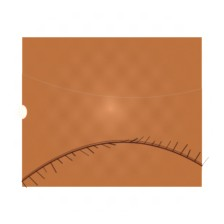pinguecula_lesion: (150, 102, 181, 127)
